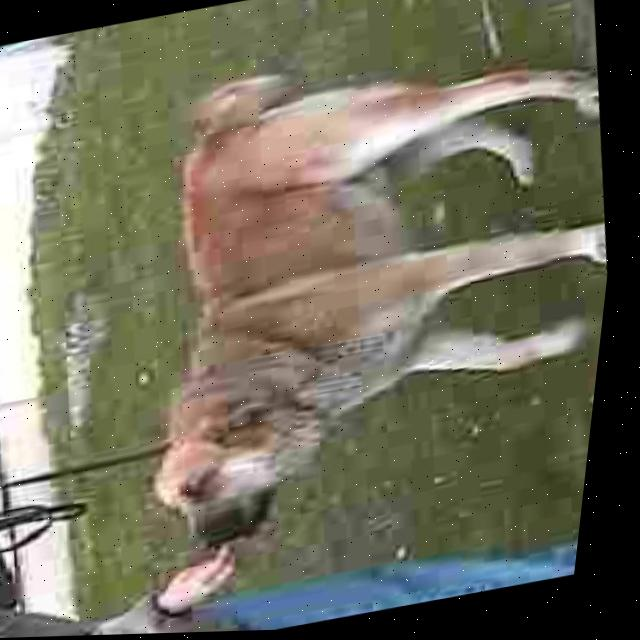dogs: (86, 0, 639, 590)
